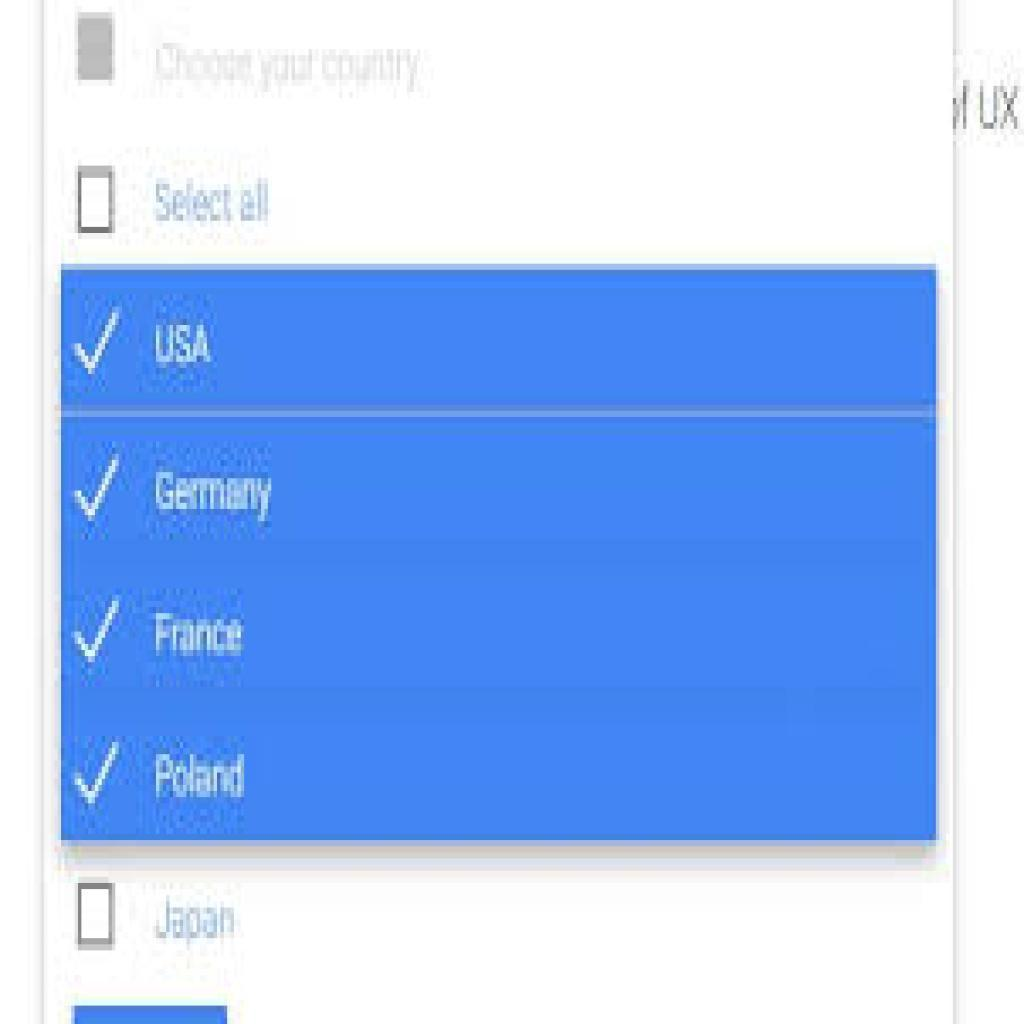checkbox: (78, 169, 116, 235), (76, 19, 115, 81), (75, 884, 113, 945)
